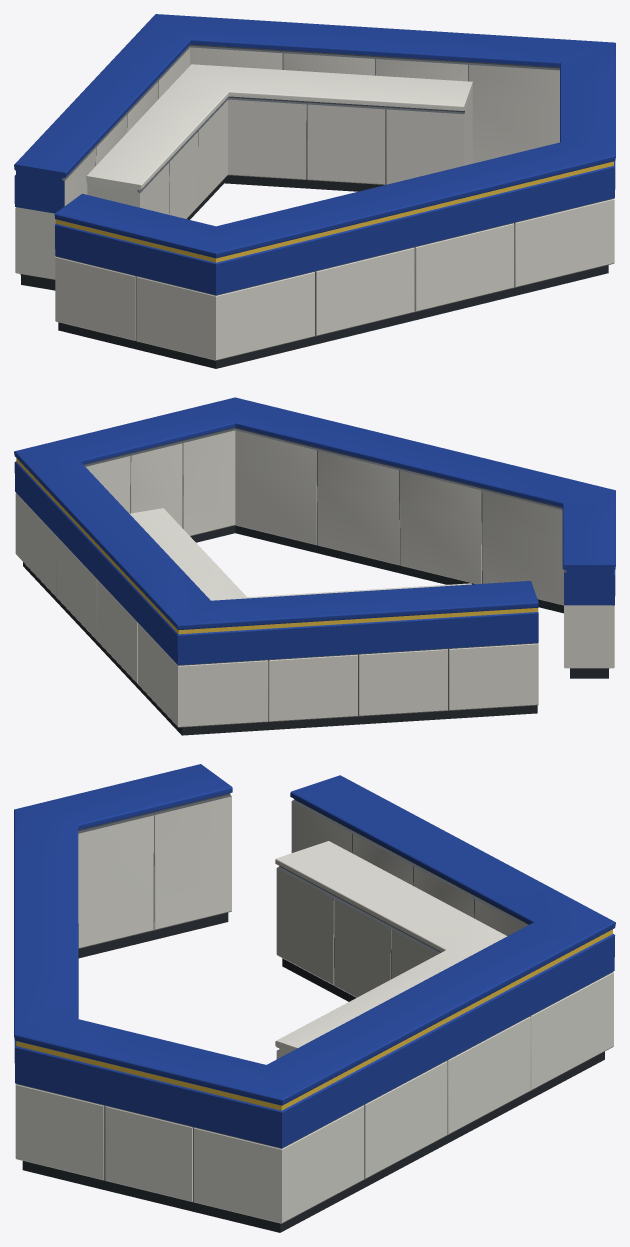
Rendered from checkout-counter-shield-laminate.glb.
The picture shows the model from 3 angles, top to bottom: view 1: azimuth 30°, elevation 25°; view 2: azimuth 150°, elevation 25°; view 3: azimuth 270°, elevation 25°; orthographic projection. The views are drawn at different scales.
Visible parts, largest first — view 1: shield-surround-0, shield-work-cabinet; view 2: shield-surround-0, shield-work-cabinet; view 3: shield-surround-0, shield-work-cabinet.
Part boxes in pixels (x1,y1,x2,y2): shield-surround-0: (14,14,615,368); shield-work-cabinet: (86,64,472,219); shield-surround-0: (14,397,615,735); shield-work-cabinet: (129,508,471,600); shield-surround-0: (14,764,615,1232); shield-work-cabinet: (275,841,507,1058).
Bounding box in the file's own units: 18.5 × 3.54 × 14.
